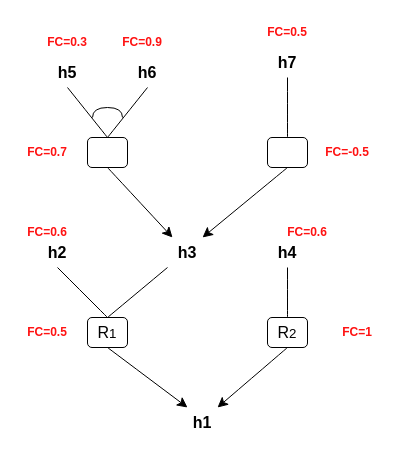
This 404x454 diagram has some shape labels left out. Here are the shapes that lost their labels. From the top down, the centre of each, then its label:
pixel 107 152: R 3
pixel 287 152: R 4
